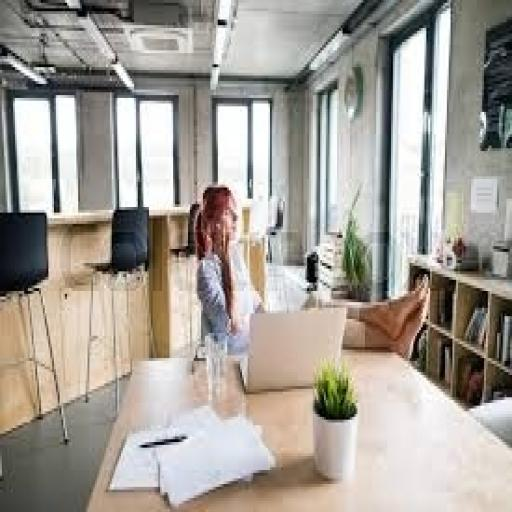calling: (190, 182, 266, 355)
